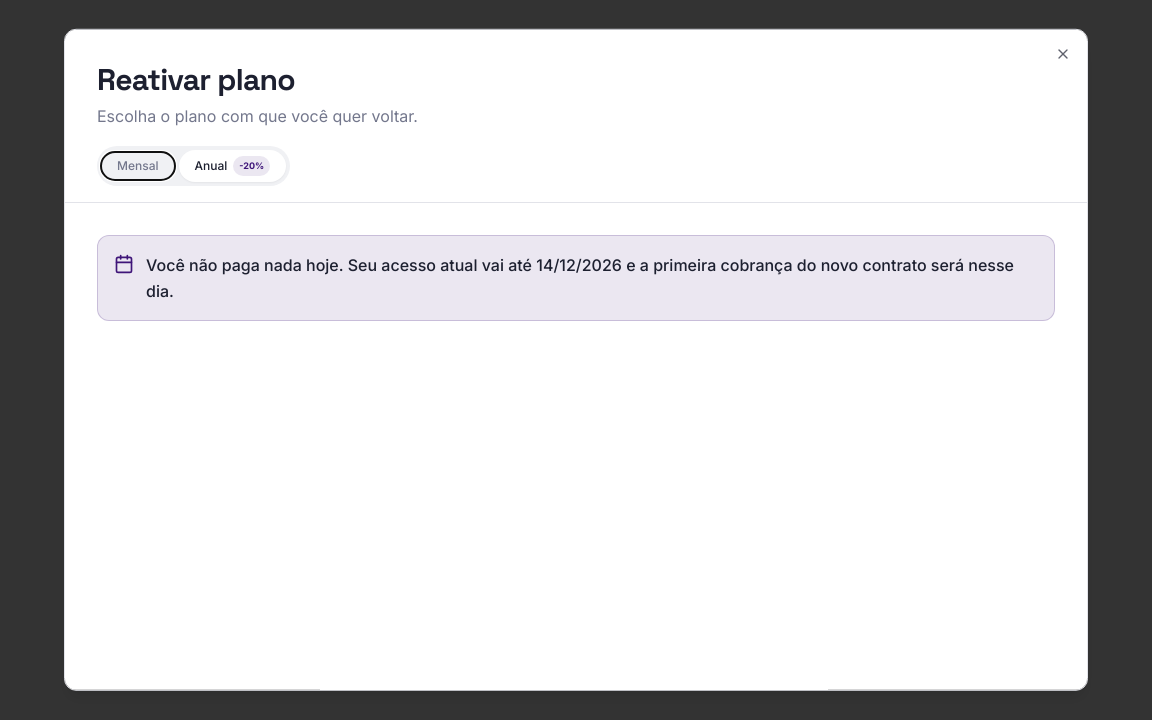
Test: P39-fix1 rodapé segue o ciclo visível sem clique › 1 cancelado anual, dias restantes, sub antigo
Click the button "Mensal": (138, 166) [101,152,174,180]
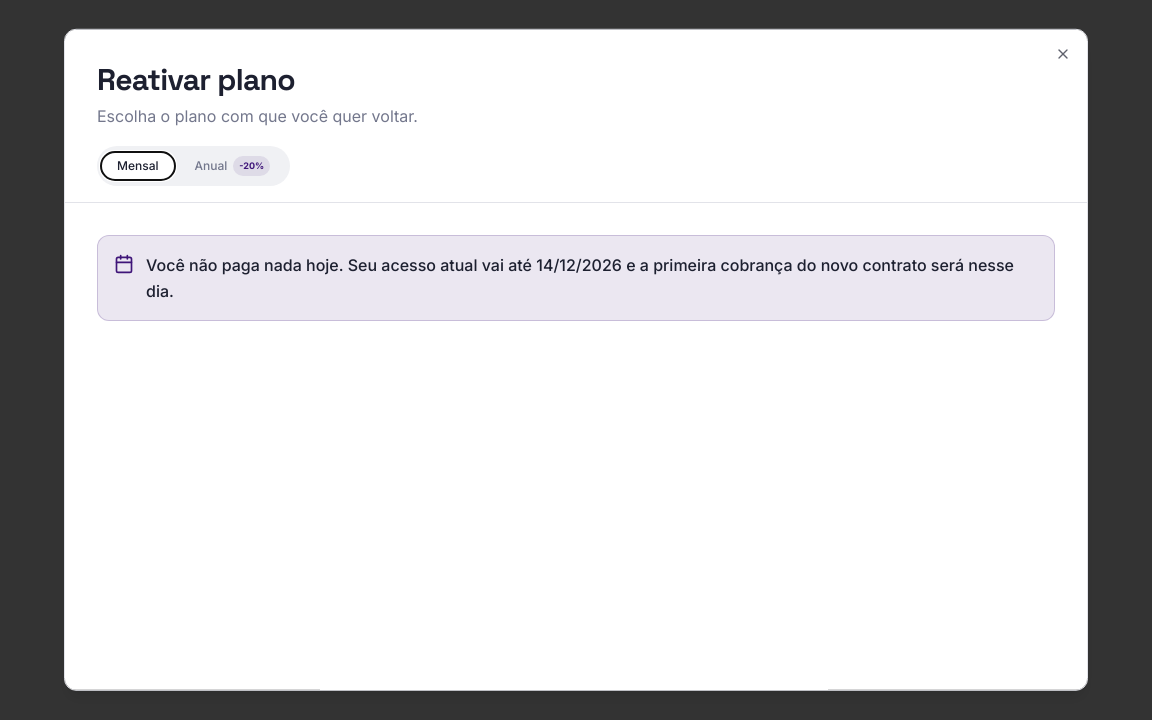
Expected: the text "R$ 717" is not shown
Expected: the button "Mensal" has class "bg-background", [101,152,174,180]
Click the button "Anual -20%": (232, 166) [178,150,286,182]
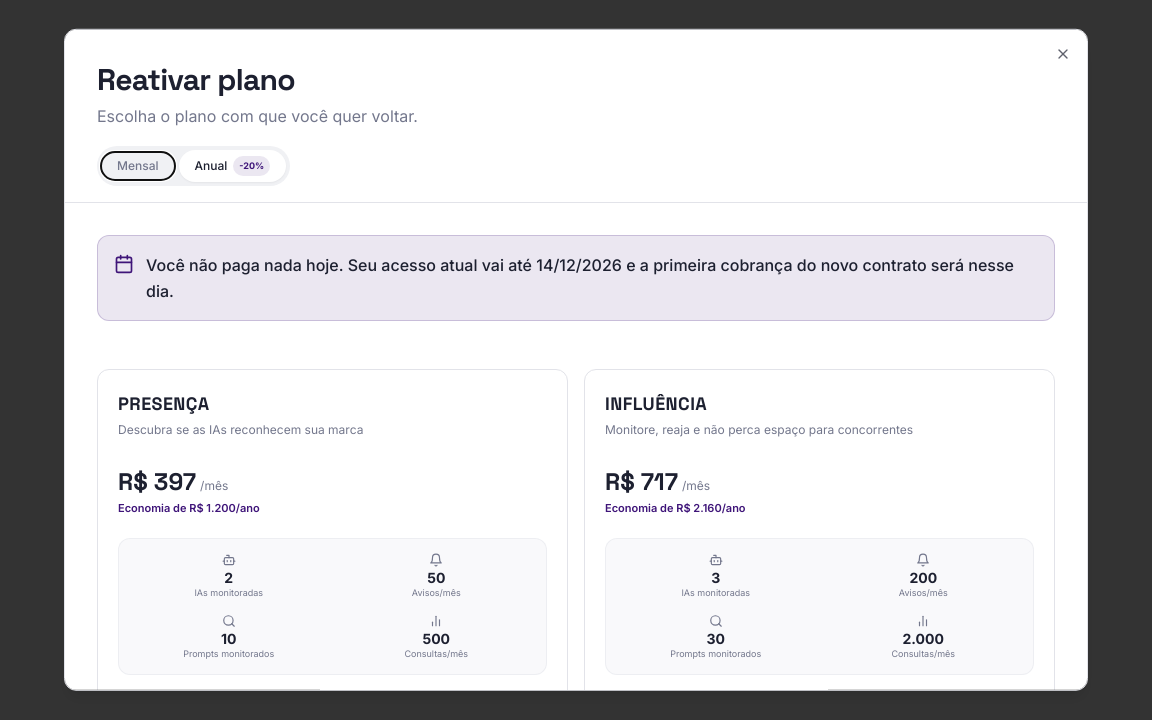
Expected: the text "R$ 717" is shown, [605,466,678,497]
